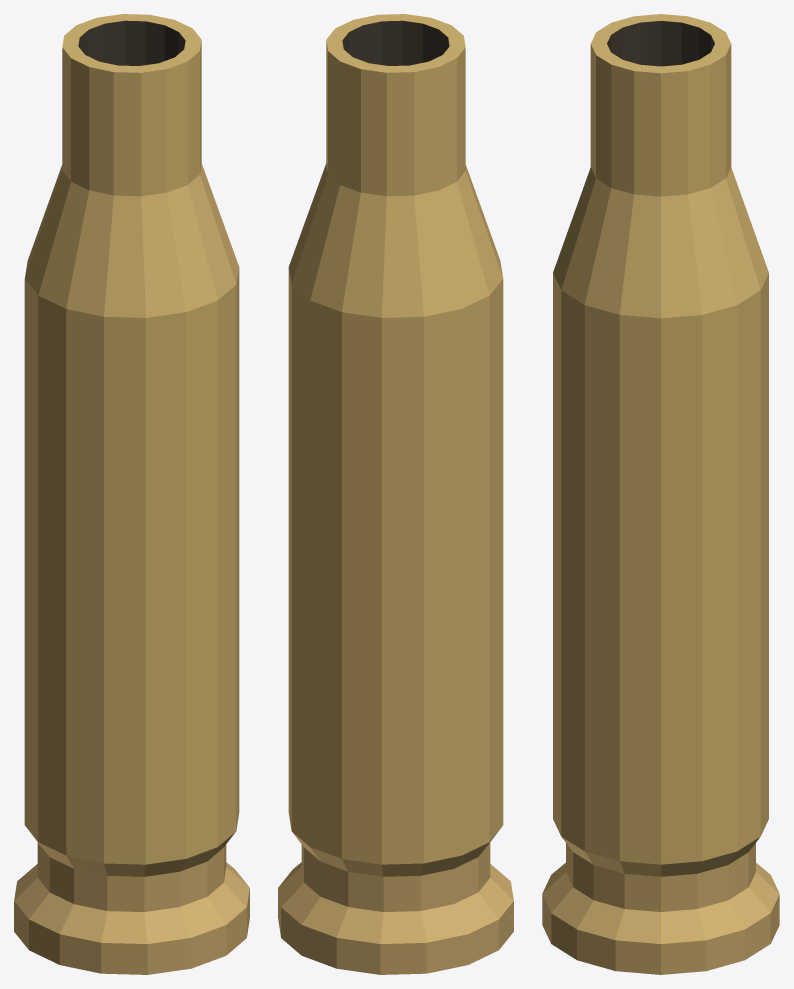
The model's file is AssaultRifle_SpentCase.glb.
3 renders of one model, left to right at view 1: azimuth 30°, elevation 25°; view 2: azimuth 150°, elevation 25°; view 3: azimuth 270°, elevation 25°, orthographic.
Visible parts, largest first — view 1: AssaultRifle_SpentCase; view 2: AssaultRifle_SpentCase; view 3: AssaultRifle_SpentCase.
Boxes of the visible parts, <box> form: AssaultRifle_SpentCase: <box>14,14,249,974</box>; AssaultRifle_SpentCase: <box>278,14,513,974</box>; AssaultRifle_SpentCase: <box>542,14,779,974</box>.
Size of the model in its own units: 0.011 by 0.0455 by 0.011.
